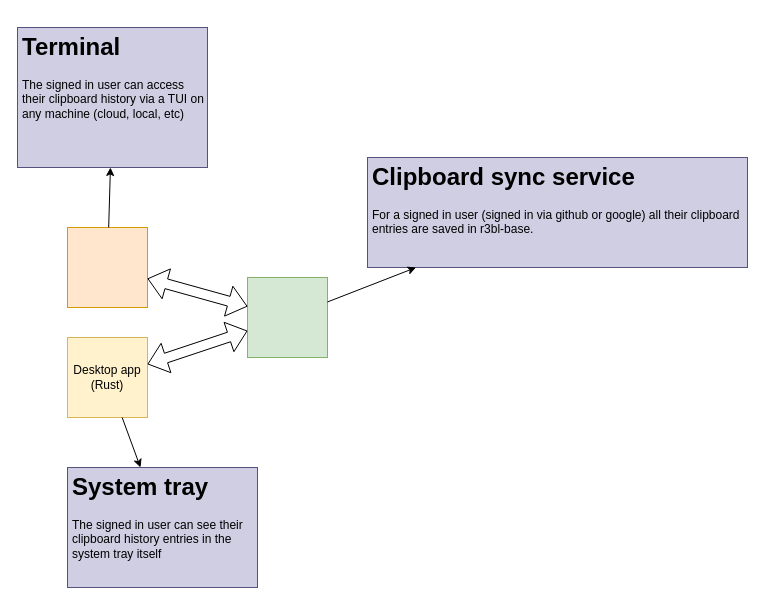
This 765x605 diagram has some shape labels left out. Here are the shapes that lost their labels. From the top down, the centre of each, then its label:
At (x=107, y=267): "TUI app (Rust)".
At (x=287, y=317): "Cloud services (Rust)".
